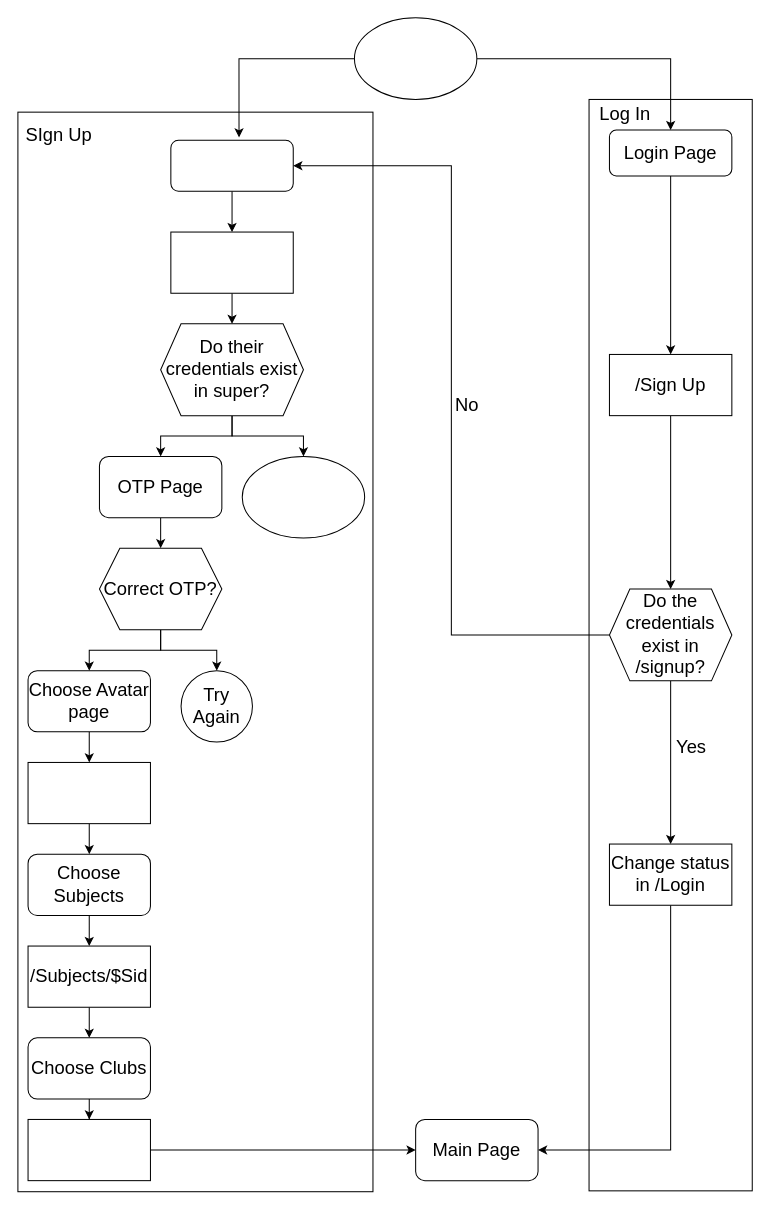
The diagram is 770 pixels wide and 1210 high, and some of its shapes have lost their labels. Each missing label, with the centre of its shape:
"/Avatar/$Sid" belongs at point 88,792.
"/Clubs/$Sid" belongs at point 88,1149.
"/Super" belongs at point 231,262.
"Not a PEC student" belongs at point 303,496.
"Sign Up Page" belongs at point 231,165.
"User" belongs at point 415,58.
